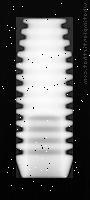Bicon: (16, 17, 73, 178)
